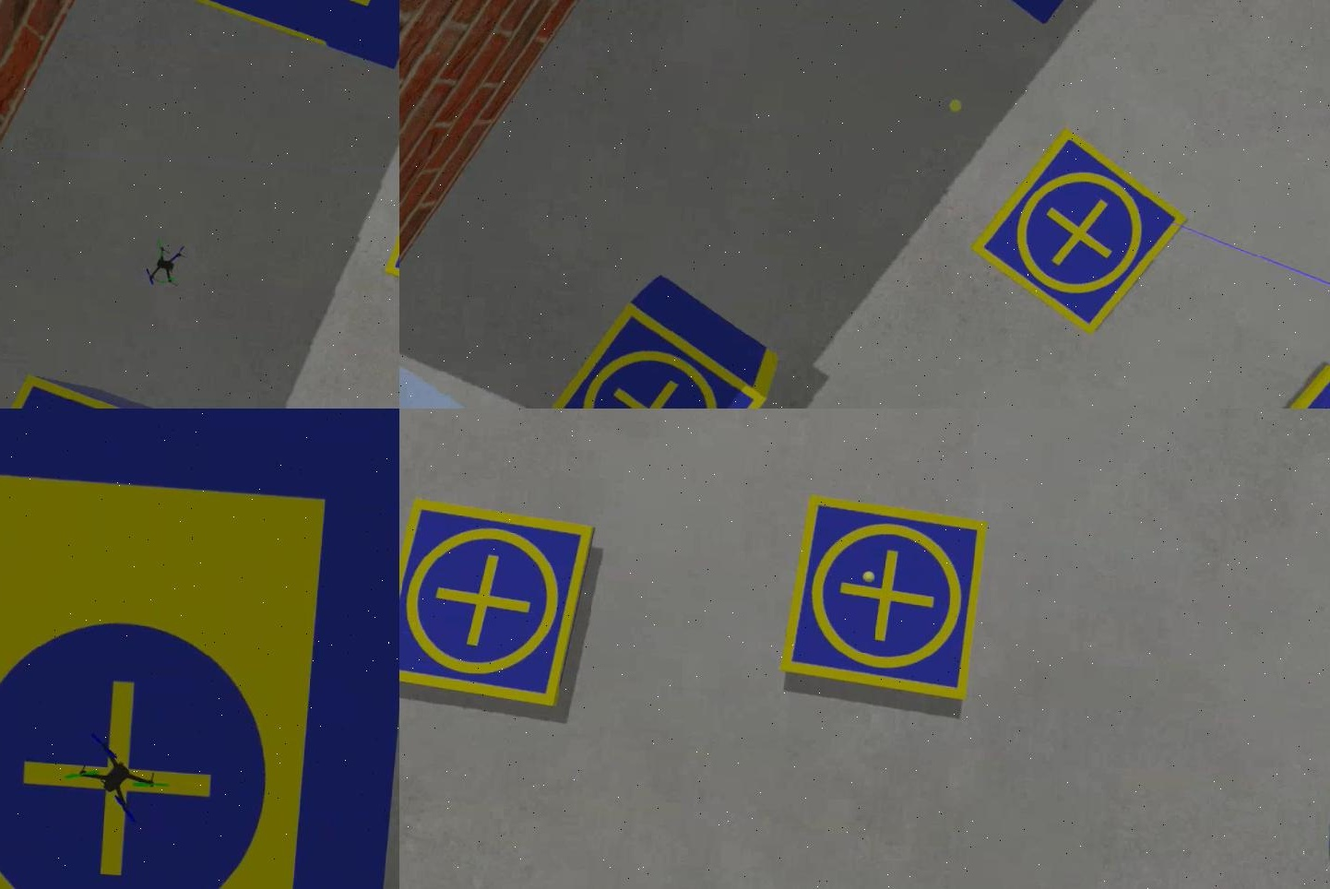large_base: (0, 409, 398, 889), (122, 1, 398, 68)
small_base: (966, 128, 1185, 343), (778, 495, 986, 708), (398, 495, 596, 713), (534, 302, 765, 409), (1229, 362, 1328, 409)
